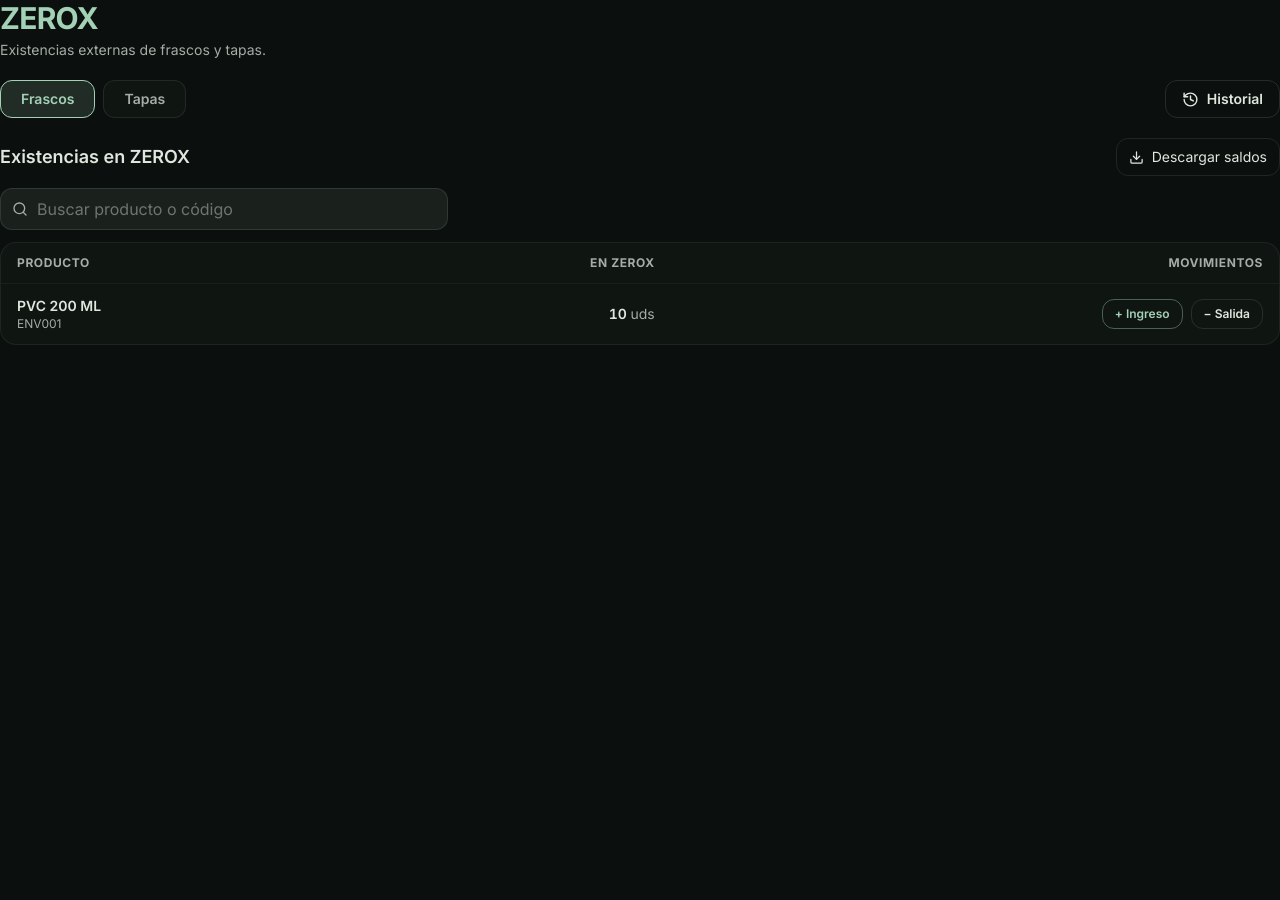
Test: ZEROX › separa frascos y tapas y permite buscar por producto
The width and height of the screenshot is (1280, 900).
Expected: the text "PVC 200 ML" is shown, x1=17 y1=297 x2=101 y2=314
Click the tab "Tapas": (145, 99) x1=104 y1=80 x2=186 y2=118
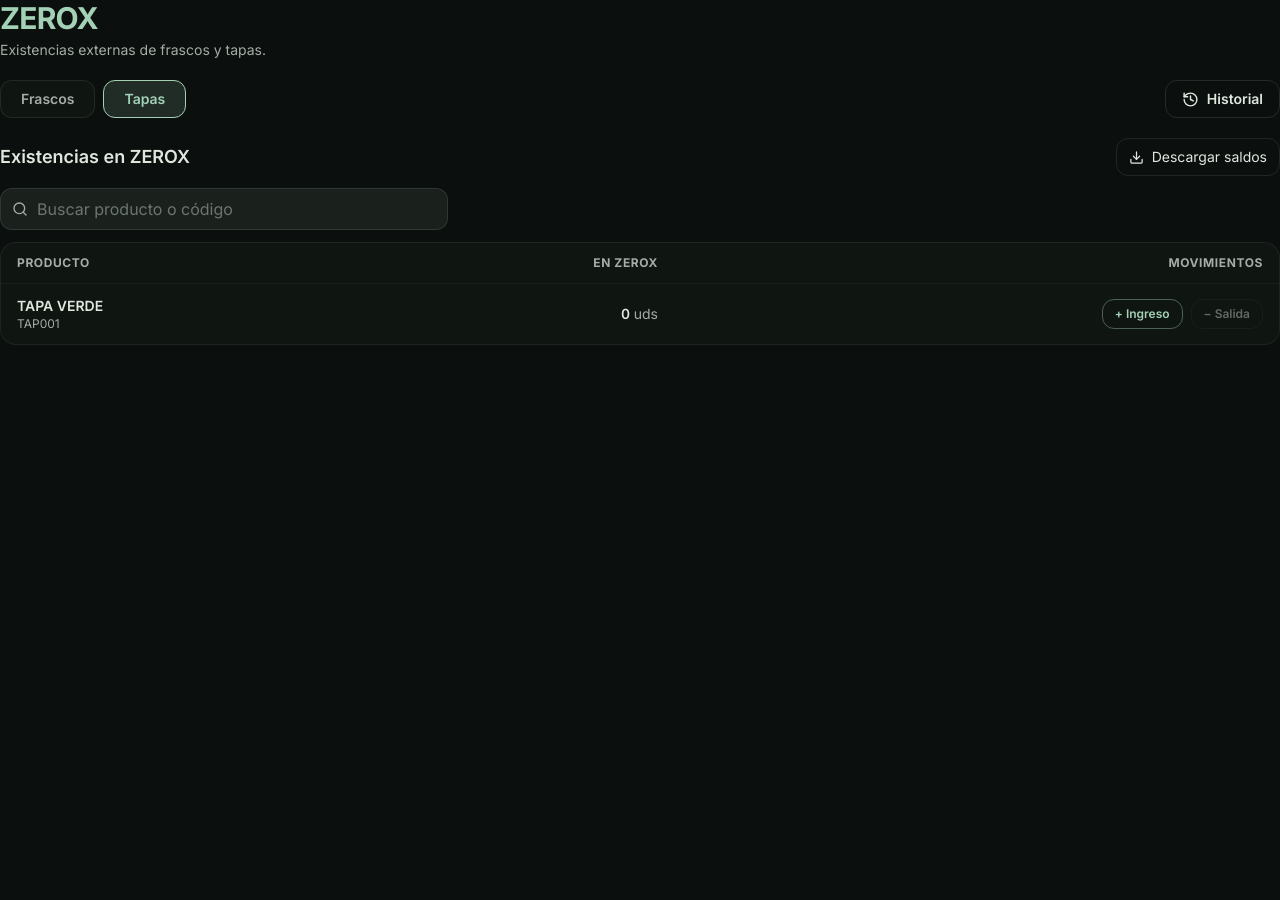
Expected: the text "TAPA VERDE" is shown, x1=17 y1=297 x2=103 y2=314
Click the button "Historial": (1222, 99) x1=1165 y1=80 x2=1279 y2=118
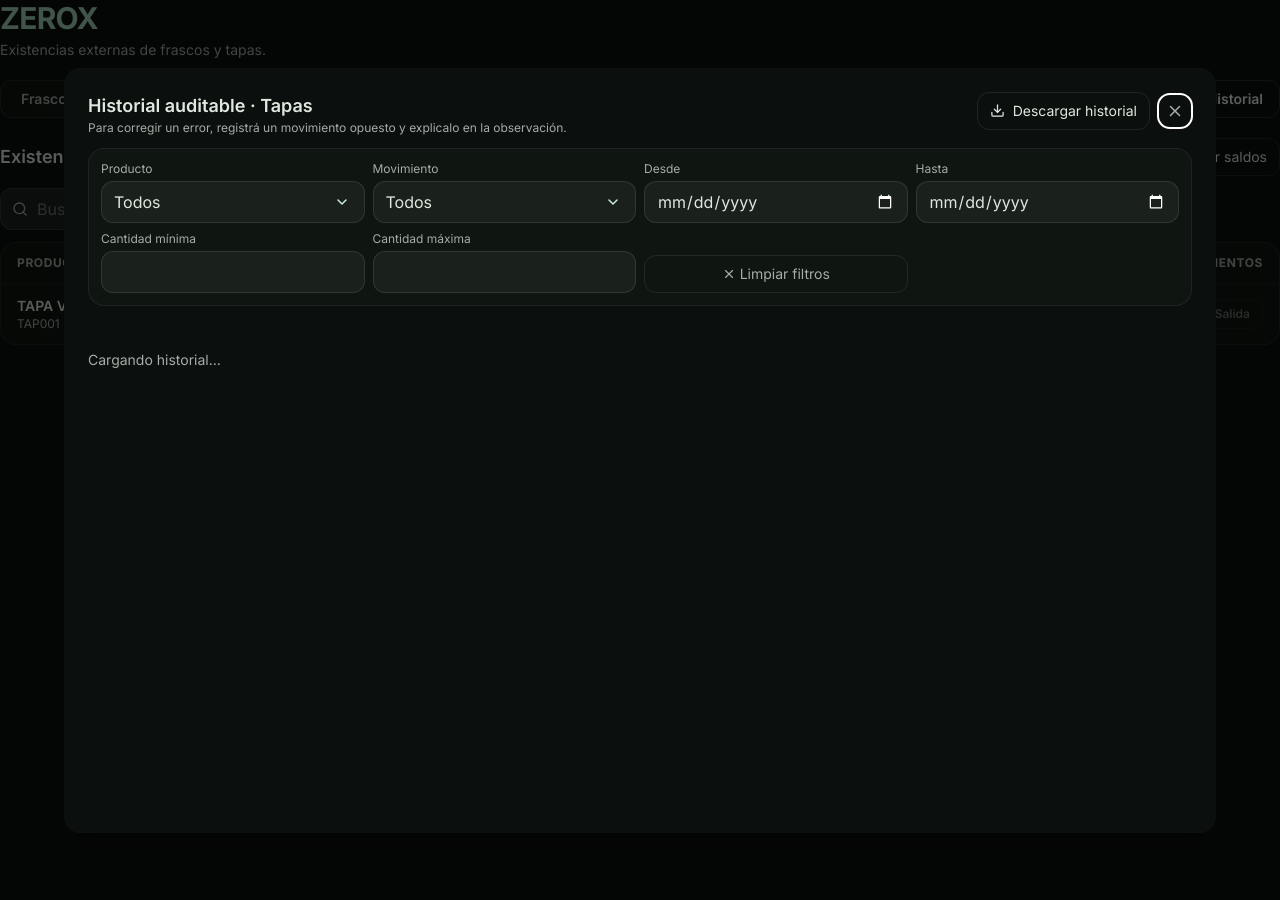
Expected: the heading "Historial auditable · Tapas" is shown, x1=88 y1=94 x2=313 y2=116
Click the button named "Cerrar historial": (1175, 110) x1=1158 y1=94 x2=1192 y2=128
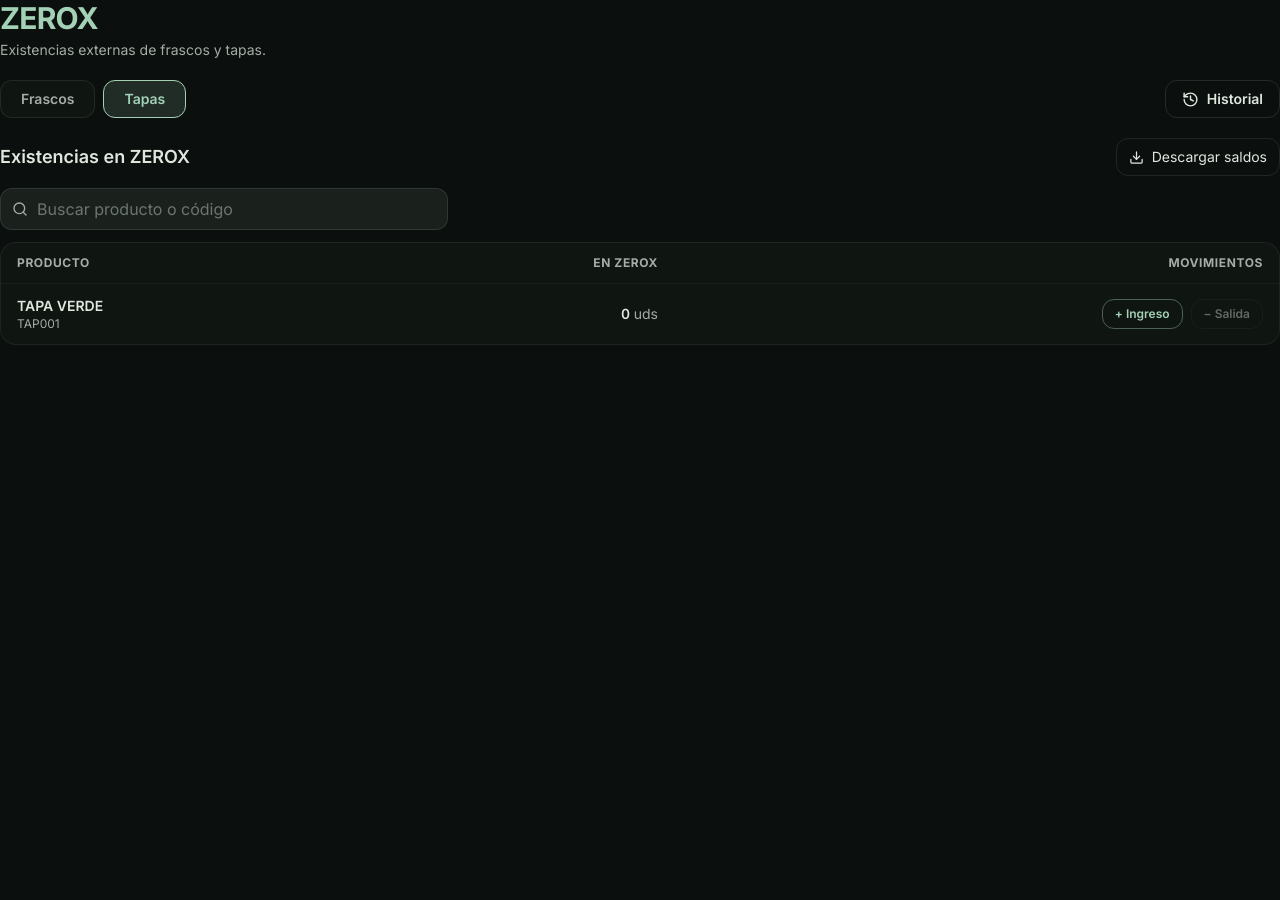
In the field named "Buscar producto en saldos": (224, 209) x1=0 y1=188 x2=448 y2=230, type "no existe"
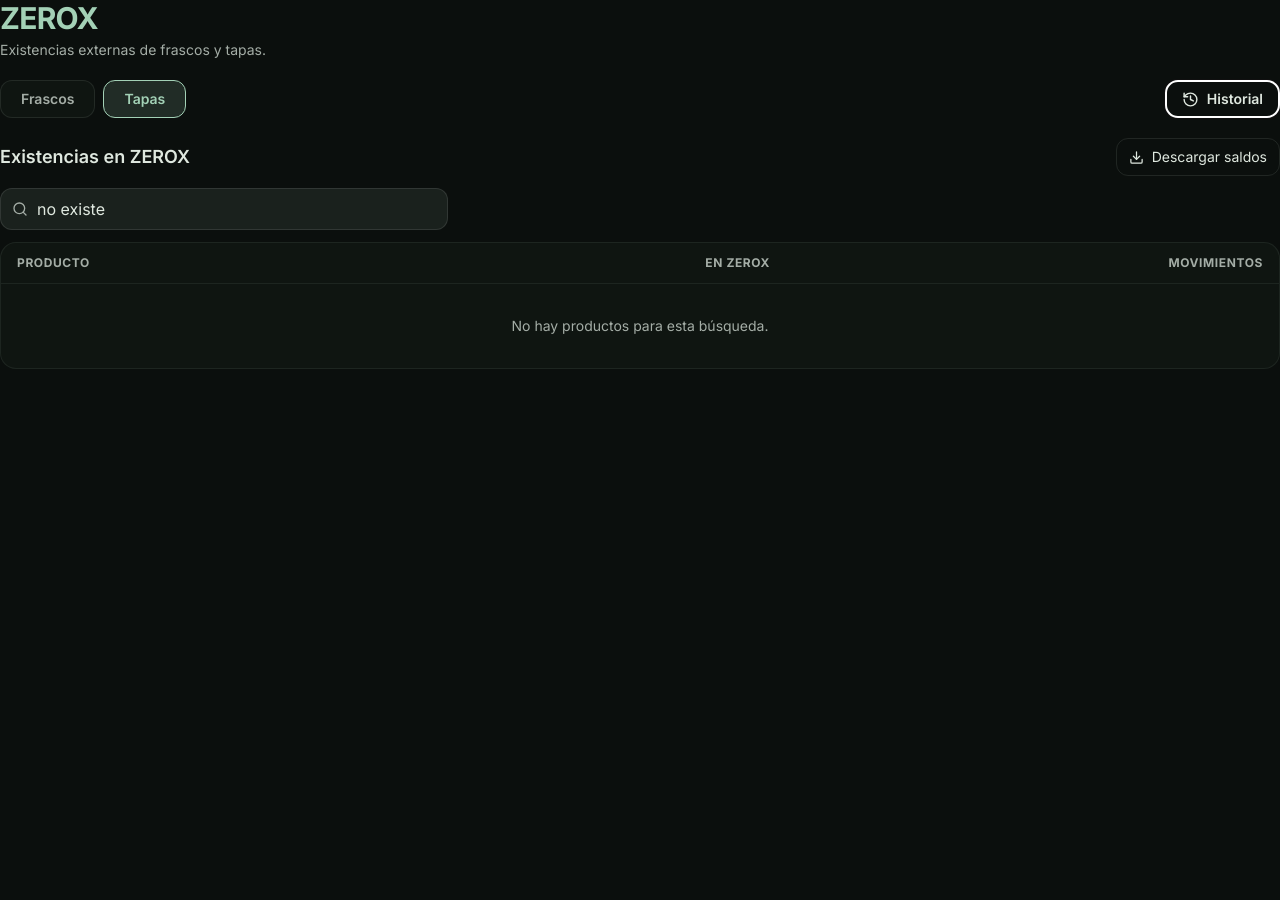
Expected: the text "No hay productos para esta búsqueda." is shown, x1=1 y1=284 x2=1279 y2=368
